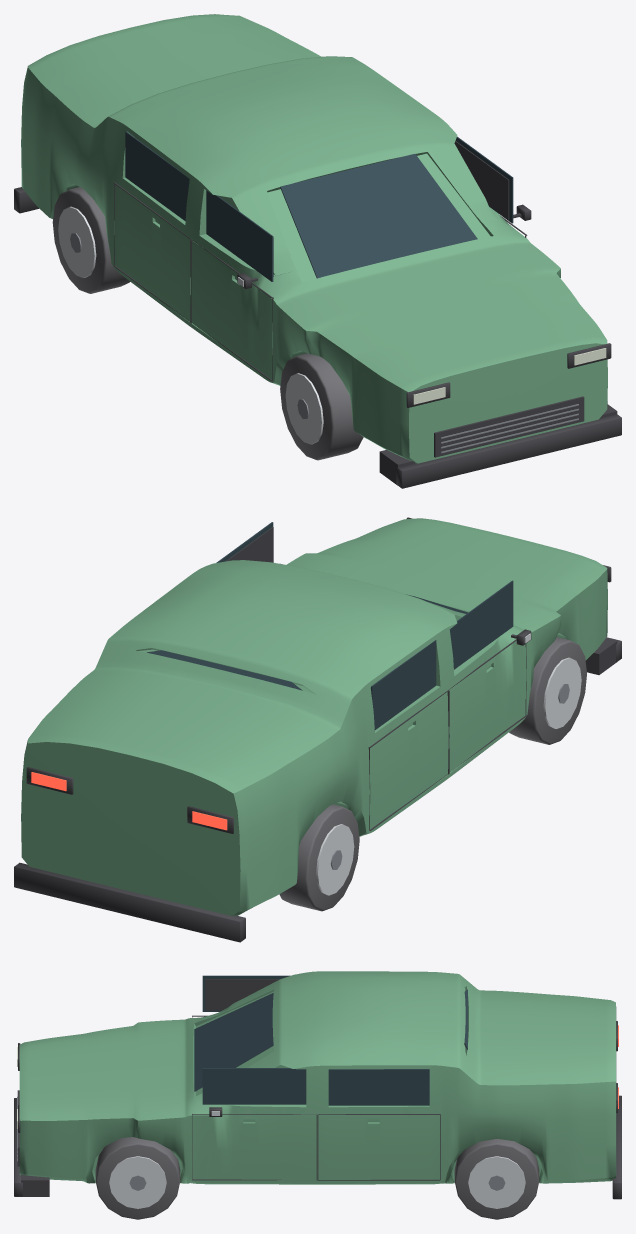
Rendered from Hatch_Compact.fbx.
3 renders of one model, top to bottom at view 1: azimuth 30°, elevation 25°; view 2: azimuth 150°, elevation 25°; view 3: azimuth 270°, elevation 25°, orthographic. The views are drawn at different scales.
Visible parts, largest first — view 1: LOD0; view 2: LOD0; view 3: LOD0.
Boxes of the visible parts, <box> form: LOD0: <box>14,14,621,488</box>; LOD0: <box>14,517,621,942</box>; LOD0: <box>14,971,621,1219</box>.
Size of what is drawn, in the model's own units: 200 by 141 by 463.
